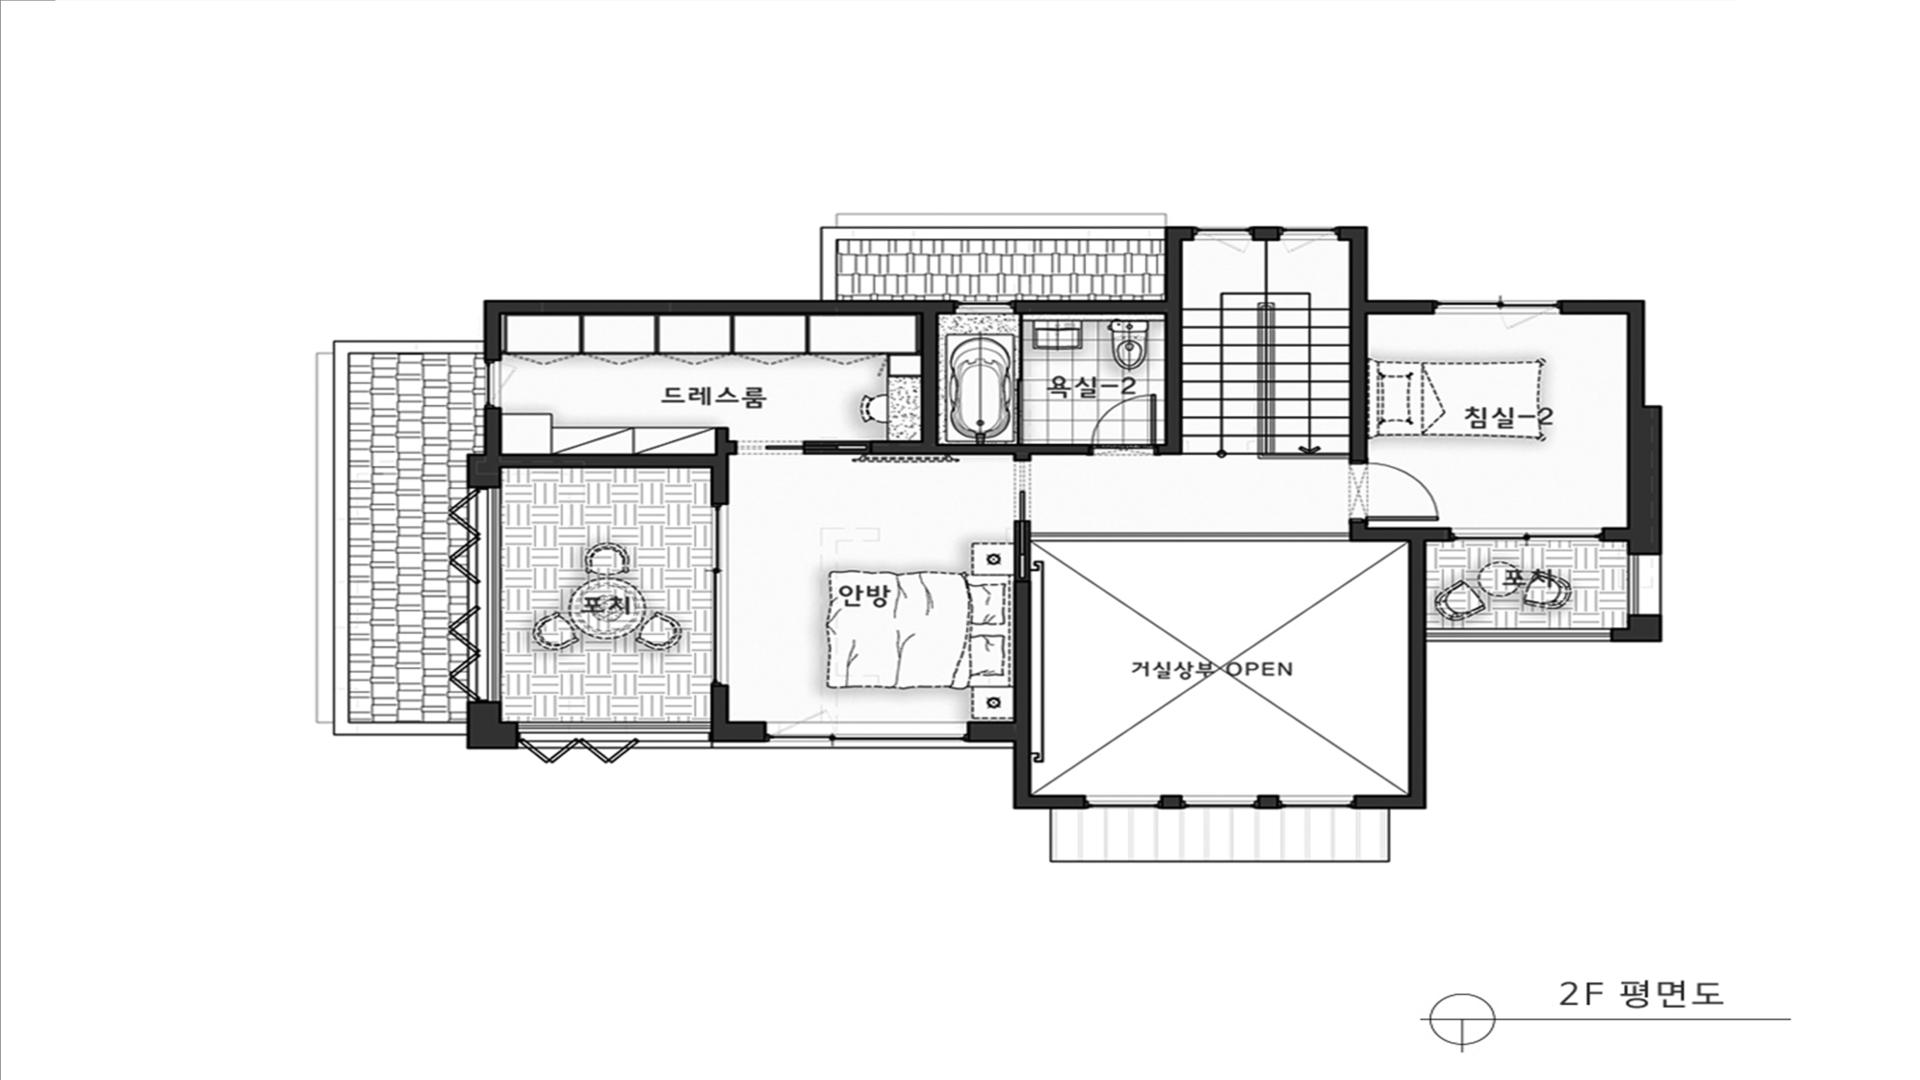background: (0, 1, 1920, 1080)
door: (1350, 459, 1440, 522), (1088, 394, 1160, 455), (1013, 460, 1031, 582), (733, 440, 872, 455)
wall: (1627, 315, 1662, 554), (501, 301, 952, 314), (872, 440, 1088, 460), (1013, 582, 1031, 810), (1160, 314, 1183, 454), (501, 454, 711, 468), (1350, 314, 1370, 459), (468, 409, 502, 488), (919, 314, 938, 440), (1017, 301, 1183, 314), (1349, 522, 1451, 541), (711, 429, 733, 502), (1563, 299, 1644, 315), (1349, 301, 1432, 315), (1349, 241, 1369, 301), (711, 721, 764, 741), (1166, 240, 1183, 301), (484, 301, 501, 360), (968, 723, 1014, 742), (711, 687, 729, 721), (1164, 225, 1193, 240), (1341, 225, 1367, 241), (1253, 227, 1279, 241), (1605, 527, 1627, 542)
window: (764, 721, 968, 742), (1031, 531, 1349, 542), (711, 501, 728, 687), (1452, 527, 1605, 542), (1432, 301, 1563, 315), (1279, 225, 1340, 241), (484, 360, 502, 409), (952, 301, 1017, 314), (1193, 227, 1253, 240)
